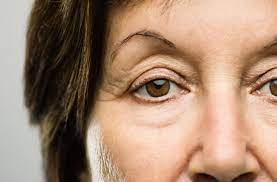PUFFY_EYES: (100, 55, 201, 127)
